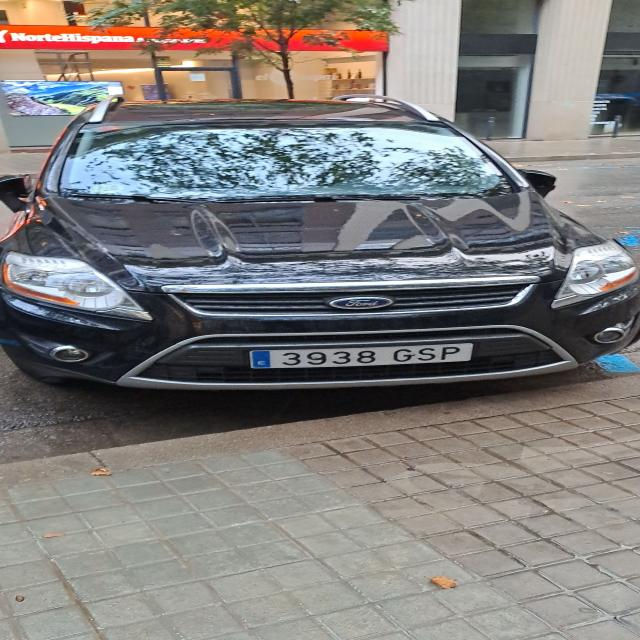license_plate-34Td: (250, 343, 473, 369)
